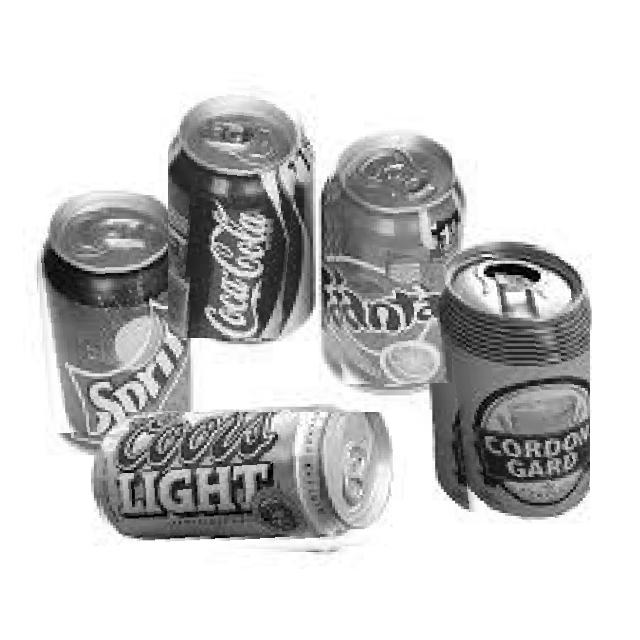Cans: (96, 412, 394, 565), (440, 244, 590, 524), (32, 195, 188, 434), (168, 80, 305, 338), (325, 120, 452, 384)
